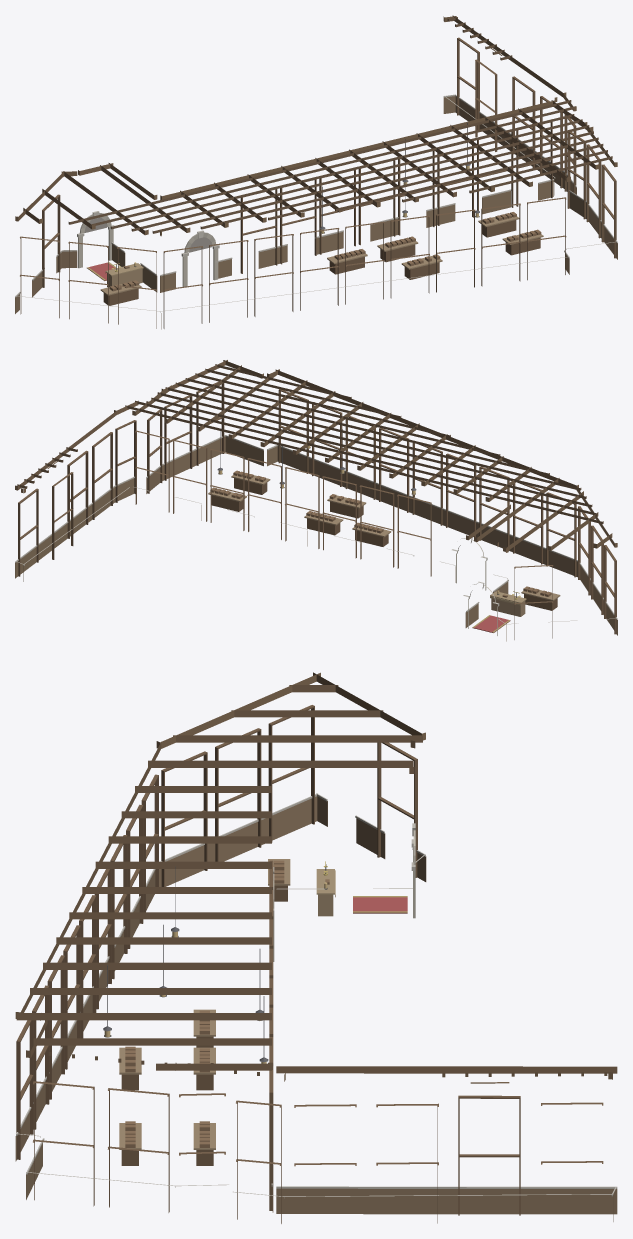
Rendered from interior_b129.glb.
3 renders of one model, top to bottom at view 1: azimuth 30°, elevation 25°; view 2: azimuth 150°, elevation 25°; view 3: azimuth 270°, elevation 25°, orthographic. The views are drawn at different scales.
Parts seen in each view (by area): view 1: Interior_B129_mesh; view 2: Interior_B129_mesh; view 3: Interior_B129_mesh.
Boxes of the visible parts, x1,y1,x2,y2 form: Interior_B129_mesh: (15,15,617,329); Interior_B129_mesh: (15,360,617,641); Interior_B129_mesh: (15,672,617,1223).
Bounding box in the file's own units: 38.66 × 6.68 × 24.39.
